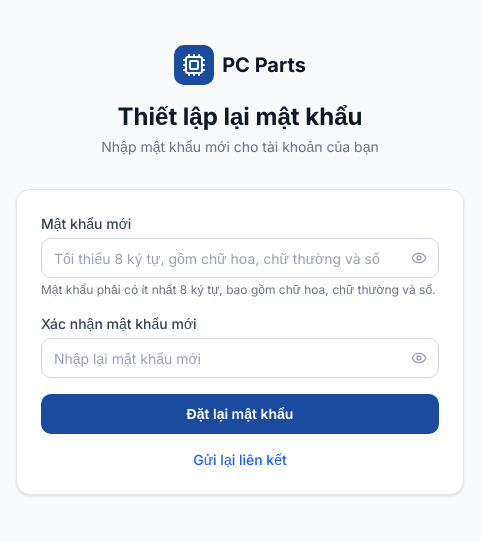
it: ResetPasswordPage › shows a retry message instead of token-expired message when reset request fails without API message
Type "Password123" into the password field labelled "Mật khẩu mới" at coordinates (240, 258), box [41,238,439,278]
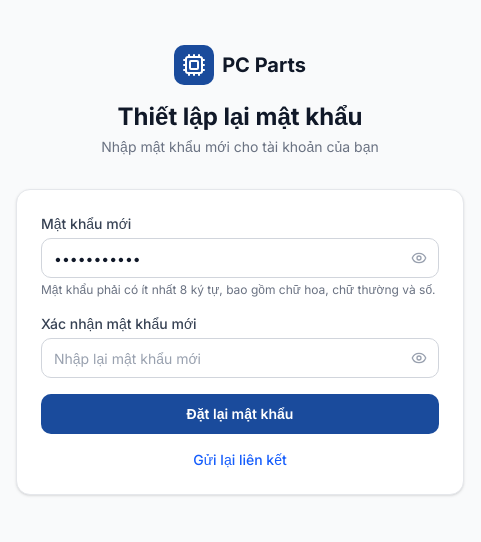
Type "Password123" into the password field labelled "Xác nhận mật khẩu mới" at coordinates (240, 358), box [41,338,439,378]
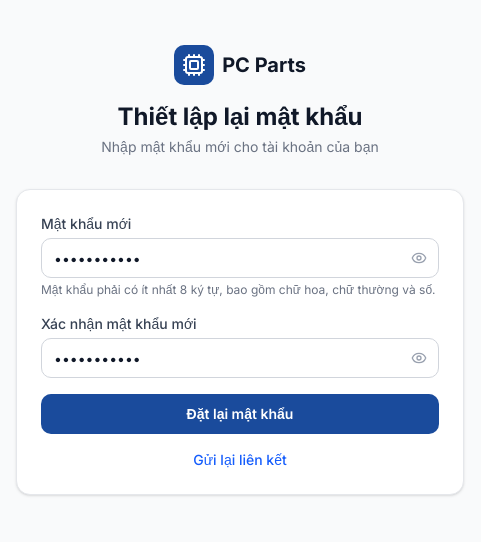
Click the button "Đặt lại mật khẩu" at coordinates (240, 414), box [41,394,439,434]
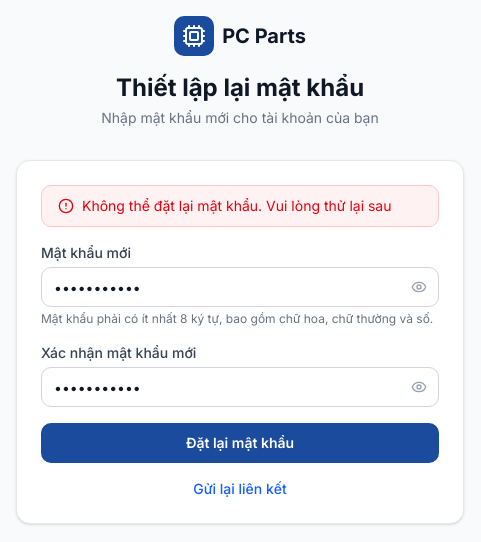
Expected: the text "Không thể đặt lại mật khẩu. Vui lòng thử lại sau" is shown, [82,196,392,216]
